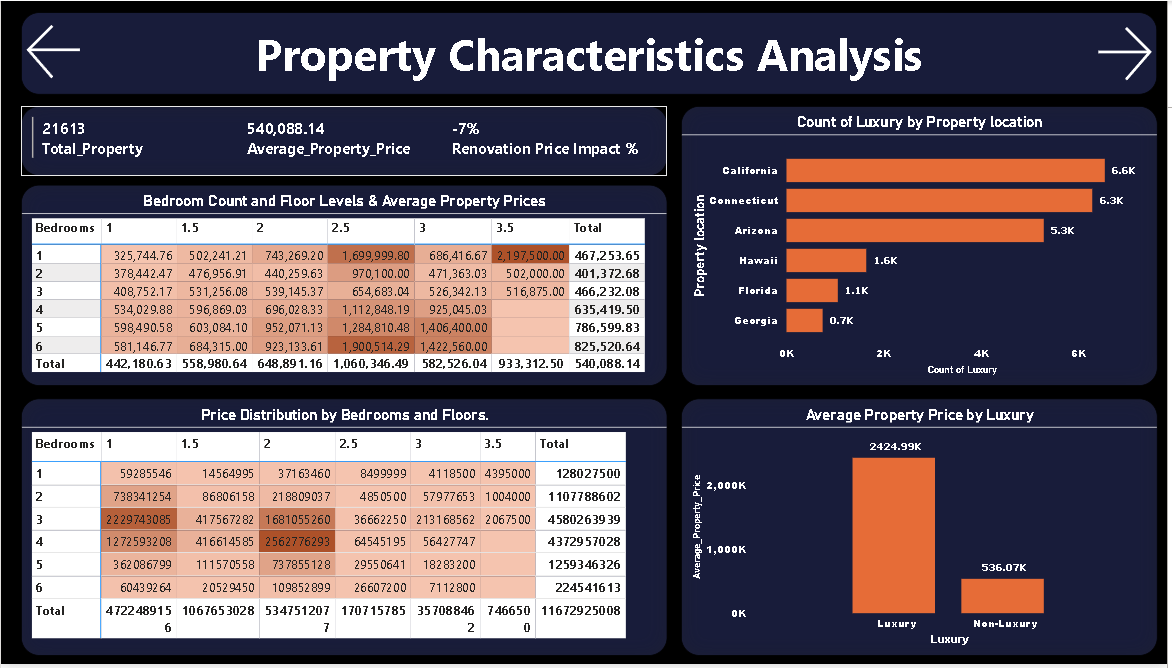

What the dashboard file says about the page in this screenshot:
{"tool":"powerbi","page":{"name":"Property Characteristics Analysis","canvas":[1280,728],"ordinal":3},"visuals":[{"type":"pivotTable","title":"Bedroom Count and Floor Levels & Average Property Prices","fields":{"Rows":["Bedroom Data.Bedrooms"],"Columns":["Floors Data.Floors"],"Values":["Property Detailed Data.Average_Property_Price"]},"box":[22,201.7,709.4,220.9],"z":0},{"type":"pivotTable","title":"Price Distribution by Bedrooms and Floors.","fields":{"Rows":["Bedroom Data.Bedrooms"],"Columns":["Floors Data.Floors"],"Values":["Sum(Property Detailed Data.price)"]},"box":[22,436.4,709.4,282.7],"z":1000},{"type":"columnChart","title":"Average Property Price by Luxury","fields":{"Category":["Property Detailed Data.Luxury"],"Y":["Property Detailed Data.Average_Property_Price"]},"box":[746.5,436.4,522.8,282.7],"z":2000},{"type":"textbox","box":[22,12.3,1247.3,90.6],"z":3000},{"type":"barChart","fields":{"Category":["Location Data.Property location"],"Y":["CountNonNull(Property Detailed Data.Luxury)"]},"box":[746.5,115.3,522.8,307.4],"z":4000},{"type":"multiRowCard","fields":{"Values":["Property Detailed Data.Total_Property","Property Detailed Data.Average_Property_Price","Property Detailed Data.Renovation Price Impact %"]},"box":[22,115.3,709.4,76.8],"z":5000},{"type":"actionButton","box":[1196.6,19.2,72.7,76.8],"z":6000},{"type":"actionButton","box":[22,19.2,74.1,72.7],"z":7000}]}

Visuals, with their boxes in screenshot pixels (x1, y1, x2, y2), scaled from the page's 1280x728 canvas onto the 1172x668 screenshot:
"Bedroom Count and Floor Levels & Average Property Prices" pivotTable: (x1=20, y1=185, x2=670, y2=388)
"Price Distribution by Bedrooms and Floors." pivotTable: (x1=20, y1=400, x2=670, y2=660)
"Average Property Price by Luxury" columnChart: (x1=684, y1=400, x2=1162, y2=660)
textbox: (x1=20, y1=11, x2=1162, y2=94)
barChart - Location Data.Property location x CountNonNull(Property Detailed Data.Luxury): (x1=684, y1=106, x2=1162, y2=388)
multiRowCard - Property Detailed Data.Total_Property x Property Detailed Data.Average_Property_Price: (x1=20, y1=106, x2=670, y2=176)
actionButton: (x1=1096, y1=18, x2=1162, y2=88)
actionButton: (x1=20, y1=18, x2=88, y2=84)
